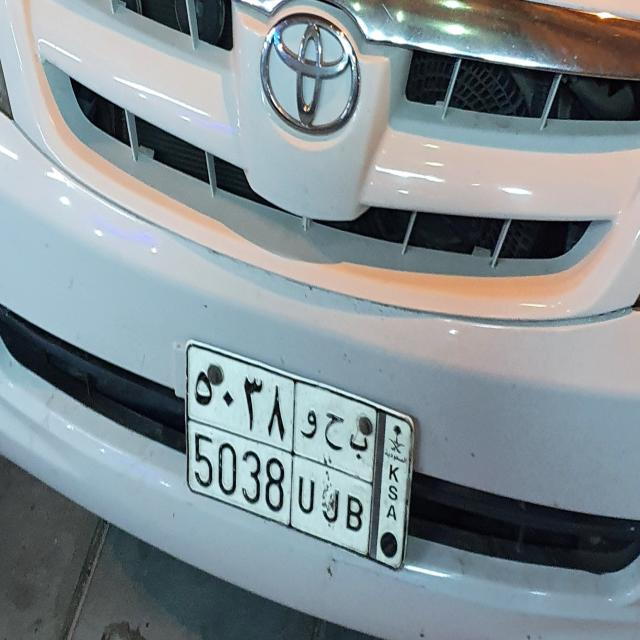license_plate: (185, 337, 417, 575)
